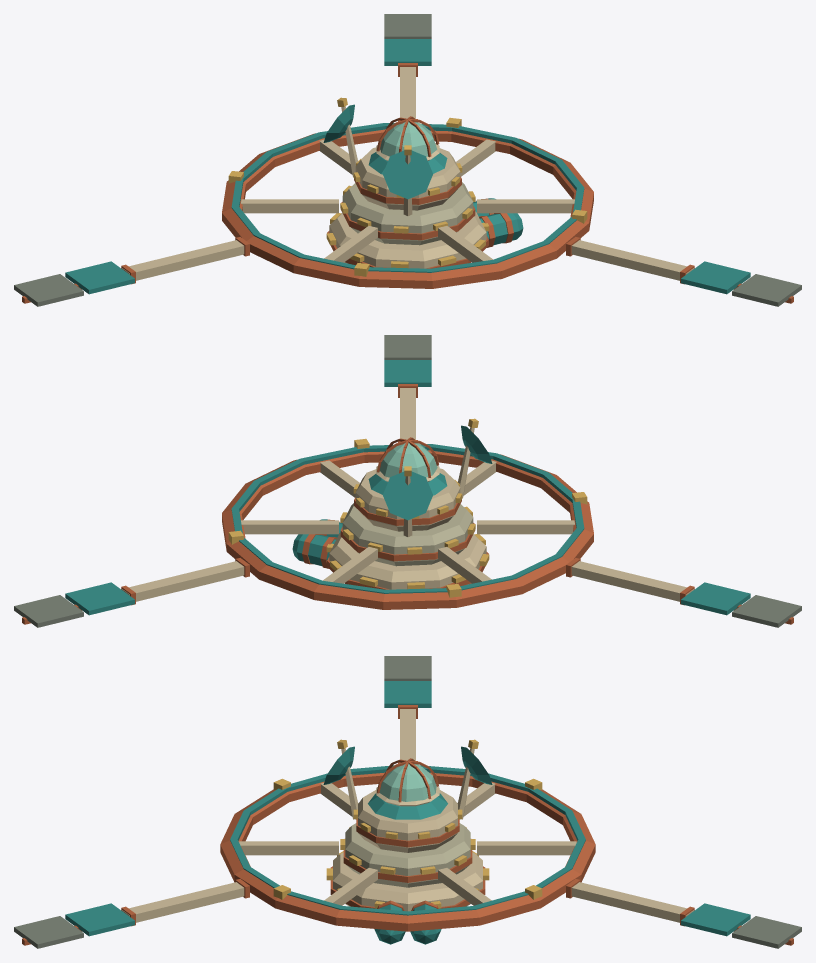
Rendered from outpost.gltf.
3 renders of one model, top to bottom at view 1: azimuth 30°, elevation 25°; view 2: azimuth 150°, elevation 25°; view 3: azimuth 270°, elevation 25°, orthographic.
Visible parts, largest first — view 1: ring, core, panels, arms, masts, dome, tanks; view 2: ring, core, panels, arms, masts, dome, tanks; view 3: ring, core, panels, arms, dome, masts, tanks.
Part boxes in pixels (left/top/right/bottom): ring: left=222, top=117, right=593, bottom=288; core: left=326, top=147, right=489, bottom=268; panels: left=14, top=14, right=801, bottom=306; arms: left=121, top=63, right=694, bottom=284; masts: left=323, top=97, right=432, bottom=215; dome: left=376, top=116, right=439, bottom=160; tanks: left=473, top=198, right=523, bottom=247; ring: left=222, top=438, right=593, bottom=609; core: left=326, top=468, right=489, bottom=589; panels: left=14, top=335, right=801, bottom=627; arms: left=121, top=384, right=694, bottom=605; masts: left=383, top=418, right=492, bottom=536; dome: left=376, top=437, right=439, bottom=481; tanks: left=292, top=519, right=342, bottom=568; ring: left=220, top=765, right=595, bottom=931; core: left=326, top=790, right=489, bottom=911; panels: left=14, top=656, right=801, bottom=948; arms: left=121, top=705, right=694, bottom=926; dome: left=376, top=758, right=439, bottom=806; masts: left=323, top=739, right=492, bottom=819; tanks: left=374, top=900, right=441, bottom=944.
Size of the model in its own units: 34.71 by 7.98 by 39.91.
